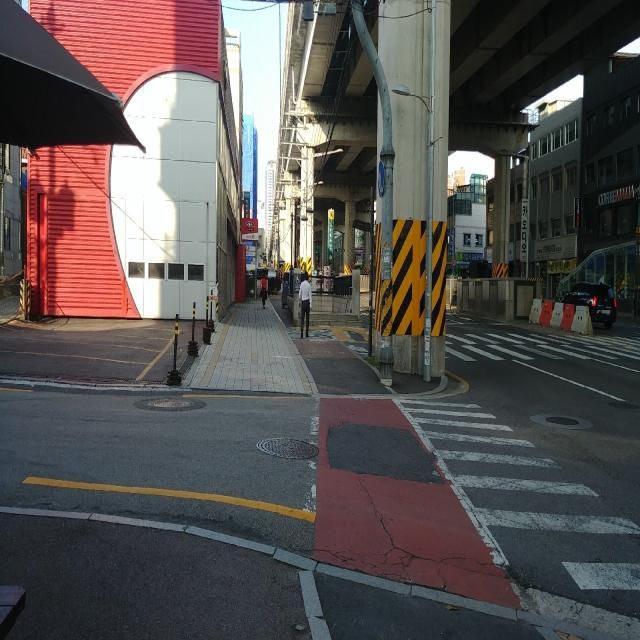횡단보도: (398, 399, 640, 589), (439, 315, 640, 369)
